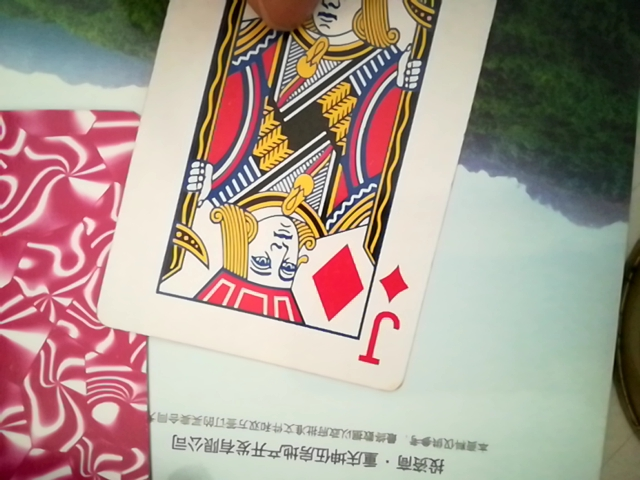fk j: (100, 2, 508, 400)
